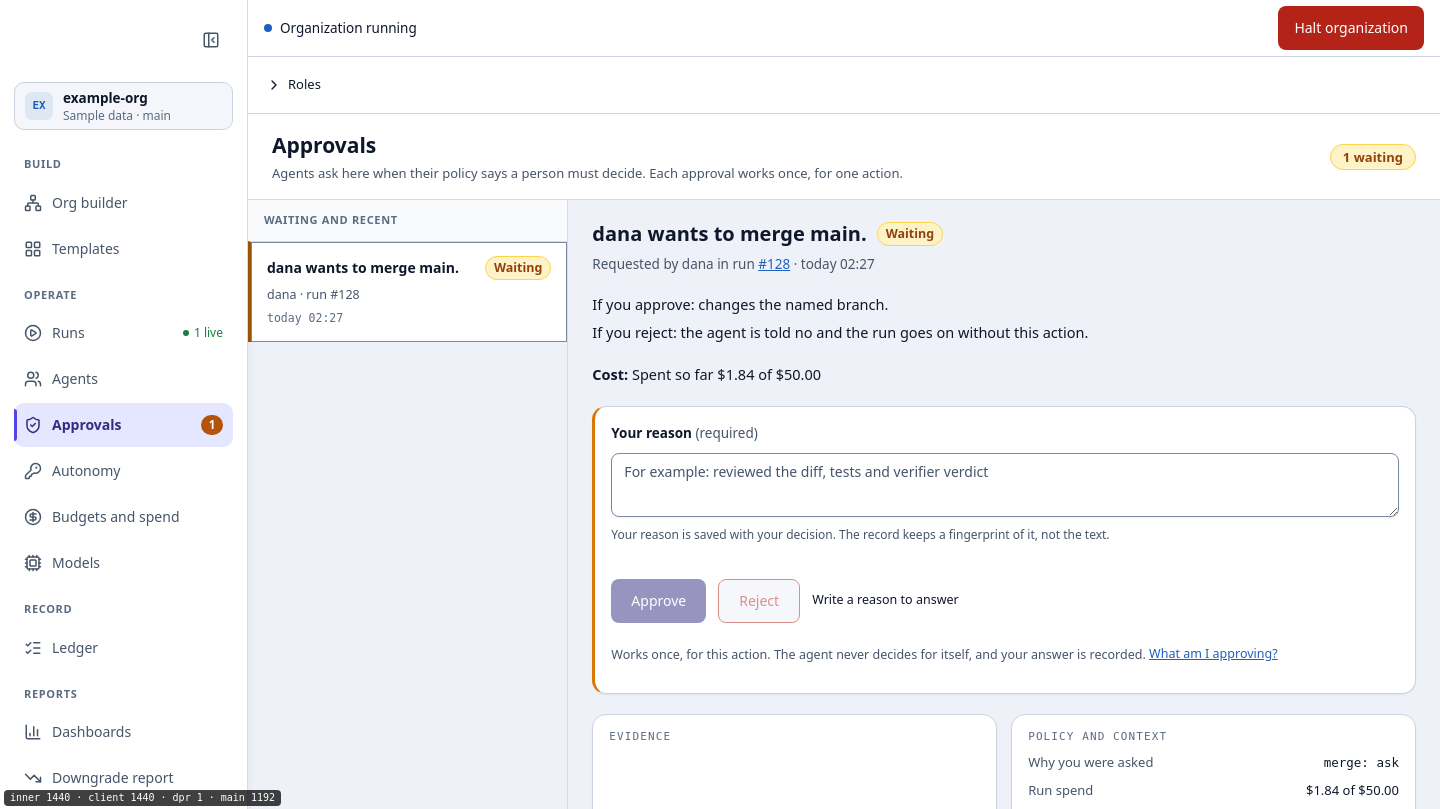
Test: solo approve: the confirm dialog (SA-17) › opens a dialog instead of sending, with every line a sole decider must see, and Cancel as the focused action
Type "read the diff" into the text box labelled "Your reason (required)" at (1005, 485), box [611,453,1399,517]
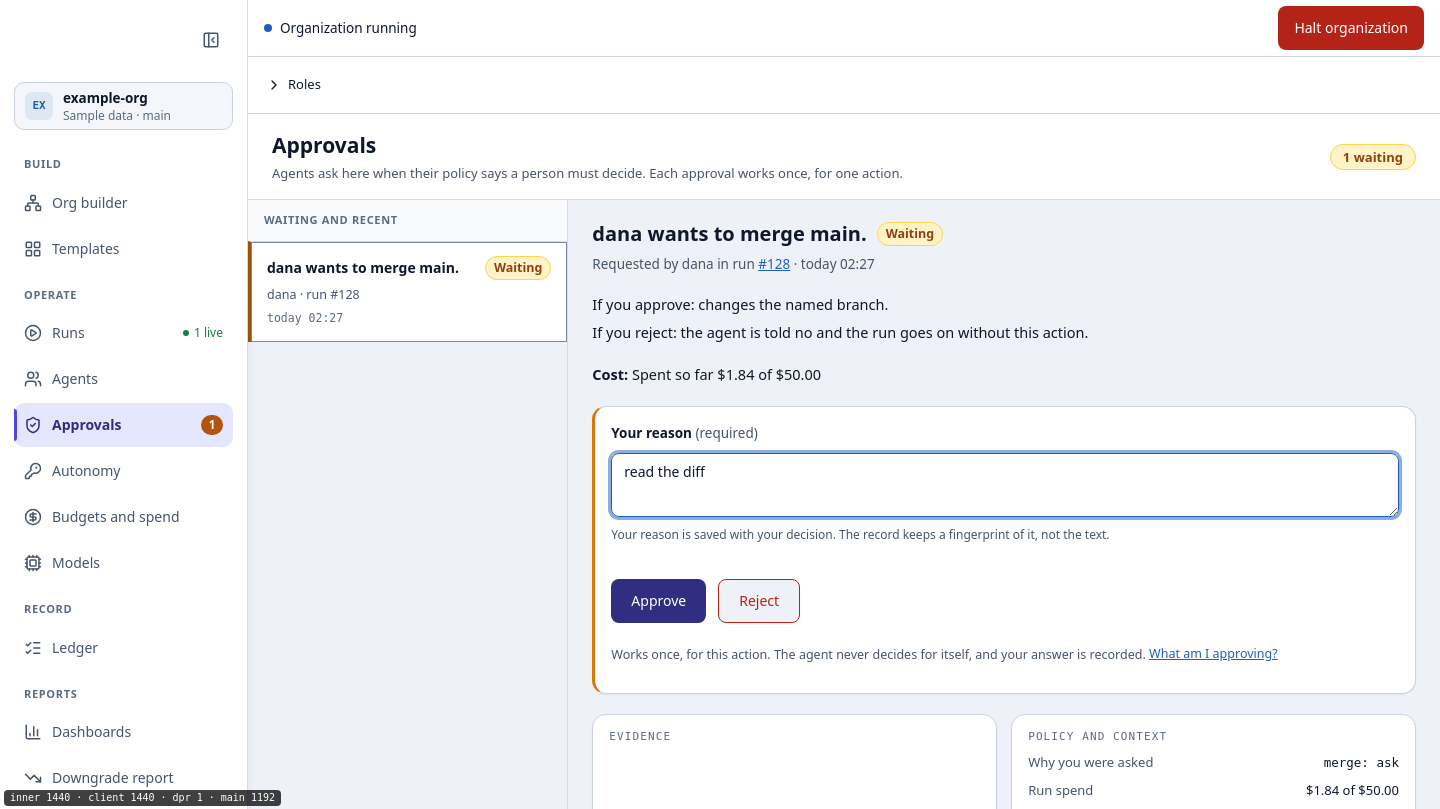
Click the button "Approve" at (659, 601), box [611,579,706,623]
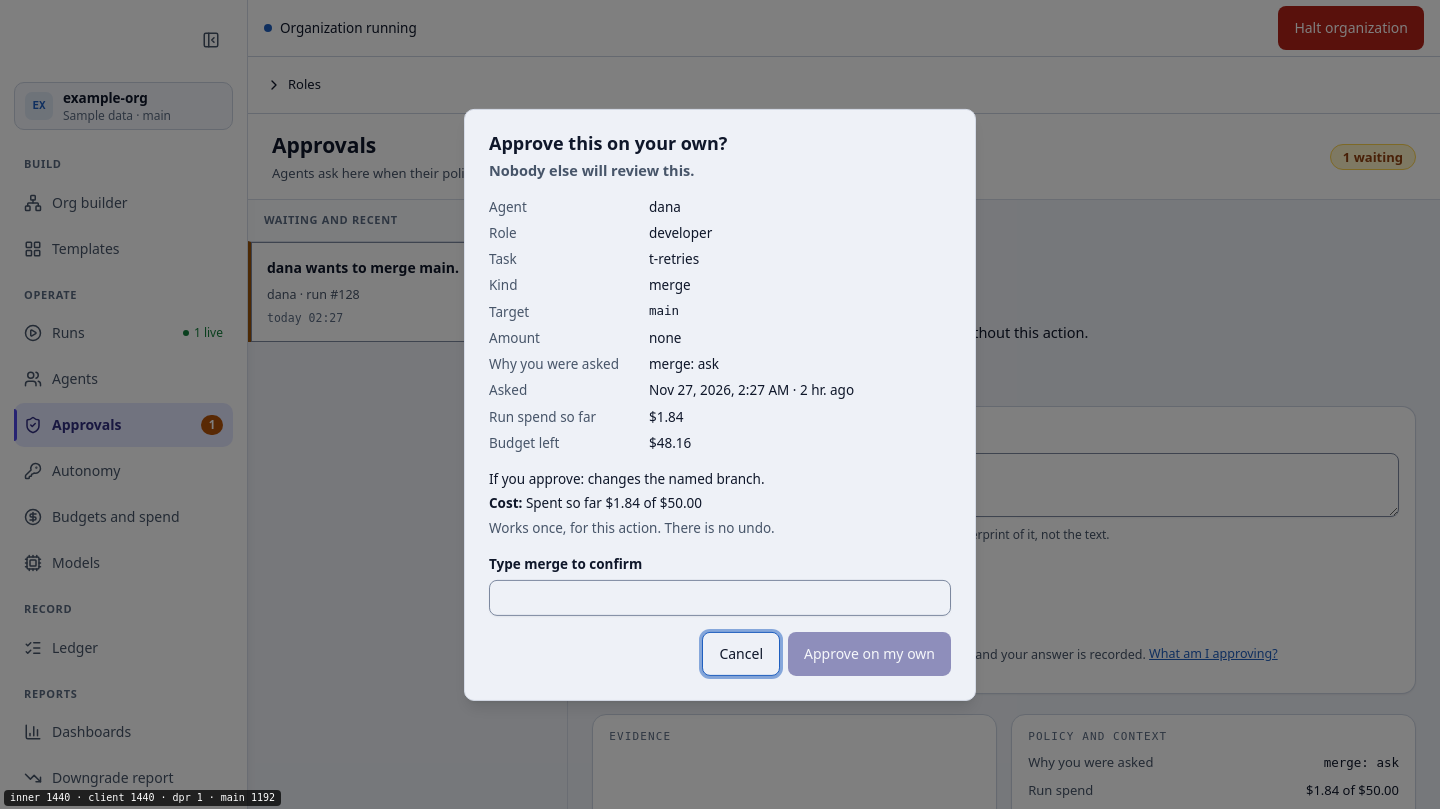
Result: the text "dana" is shown at [649,198,681,216]
Result: the text "developer" is shown at [649,224,712,242]
Result: the text "t-retries" is shown at [649,250,699,268]
